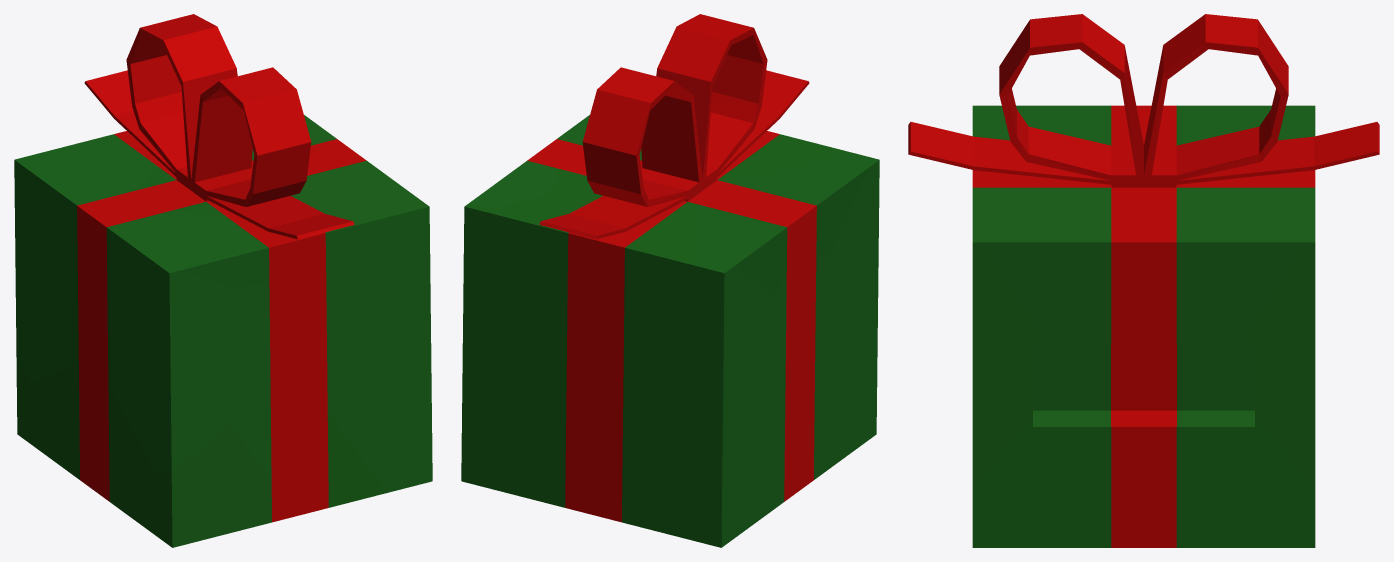
Rendered from GIFT HAT.fbx.
3 renders of one model, left to right at view 1: azimuth 30°, elevation 25°; view 2: azimuth 150°, elevation 25°; view 3: azimuth 270°, elevation 25°, orthographic. The views are drawn at different scales.
Visible parts, largest first — view 1: GIFT_HAT; view 2: GIFT_HAT; view 3: GIFT_HAT.
Part boxes in pixels (x1,y1,x2,y2): GIFT_HAT: [14, 14, 432, 547]; GIFT_HAT: [461, 14, 879, 547]; GIFT_HAT: [908, 14, 1379, 547].
Bounding box in the file's own units: 35.48 × 52.5 × 49.81.
